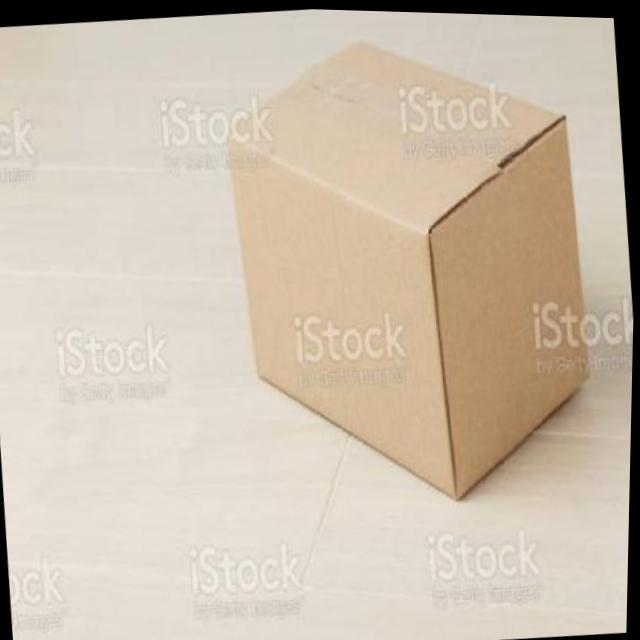box: (207, 5, 630, 574)
